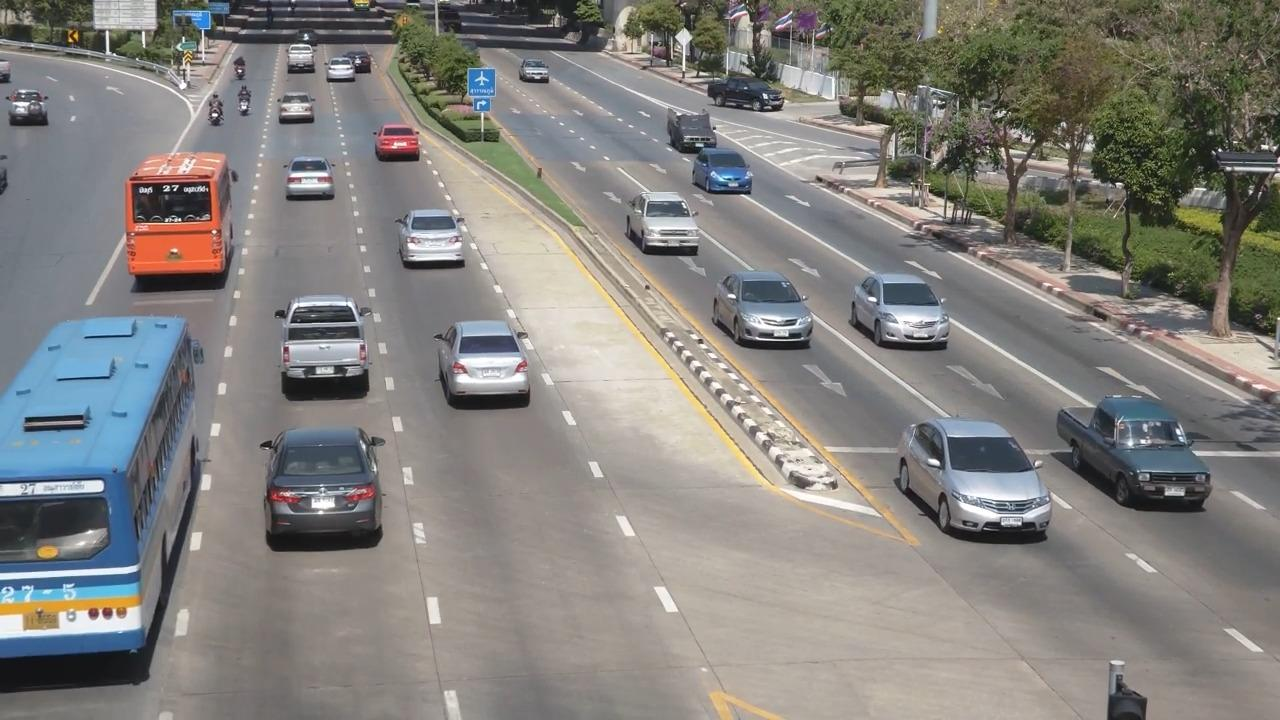CAR: (242, 416, 409, 586), (885, 403, 1060, 552), (1044, 371, 1213, 514), (260, 284, 393, 418), (415, 299, 547, 426), (845, 263, 969, 360), (715, 262, 833, 362), (384, 199, 478, 292), (616, 183, 710, 266), (695, 60, 786, 125), (274, 156, 351, 220), (689, 144, 766, 204), (656, 105, 728, 168), (0, 33, 67, 97), (366, 119, 427, 180), (6, 89, 62, 153), (263, 85, 321, 140), (277, 53, 332, 96), (345, 41, 396, 86), (324, 54, 371, 97), (509, 55, 560, 93)
HGV_BUS: (0, 309, 220, 720), (101, 149, 250, 308)
MOTOR: (232, 78, 270, 135), (195, 92, 229, 135), (217, 48, 250, 87)
